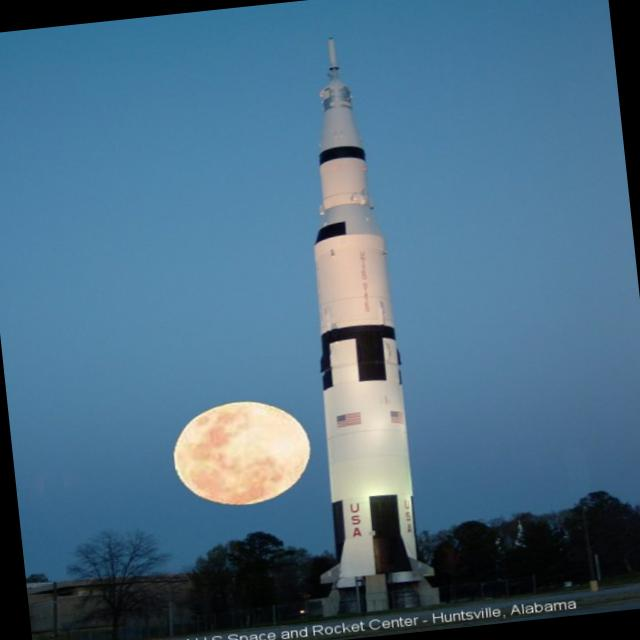rocket: (300, 35, 425, 599)
